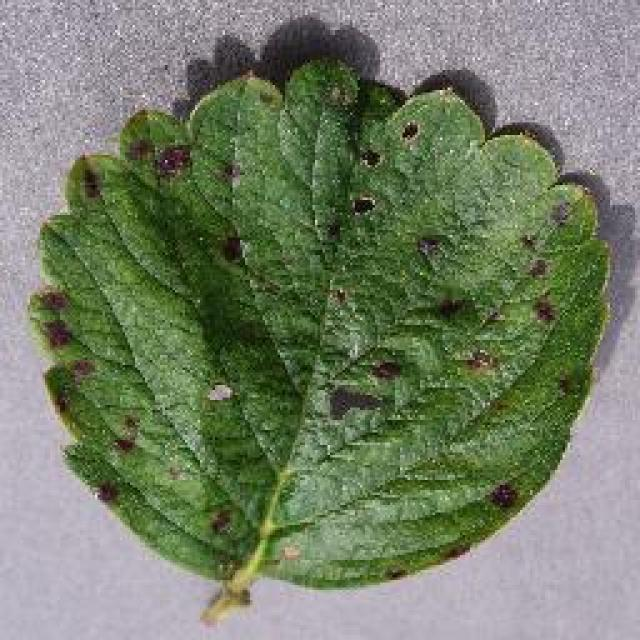Strawberry leaf scorch: (53, 112, 545, 518)
